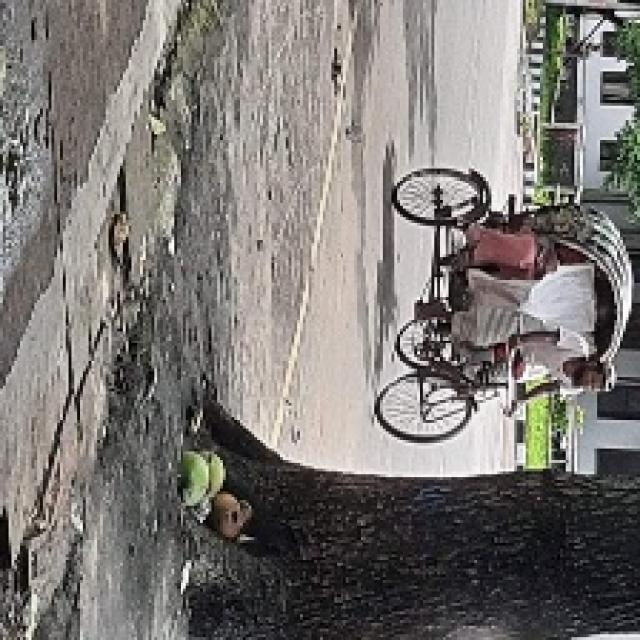rickshaw: (380, 165, 627, 442)
